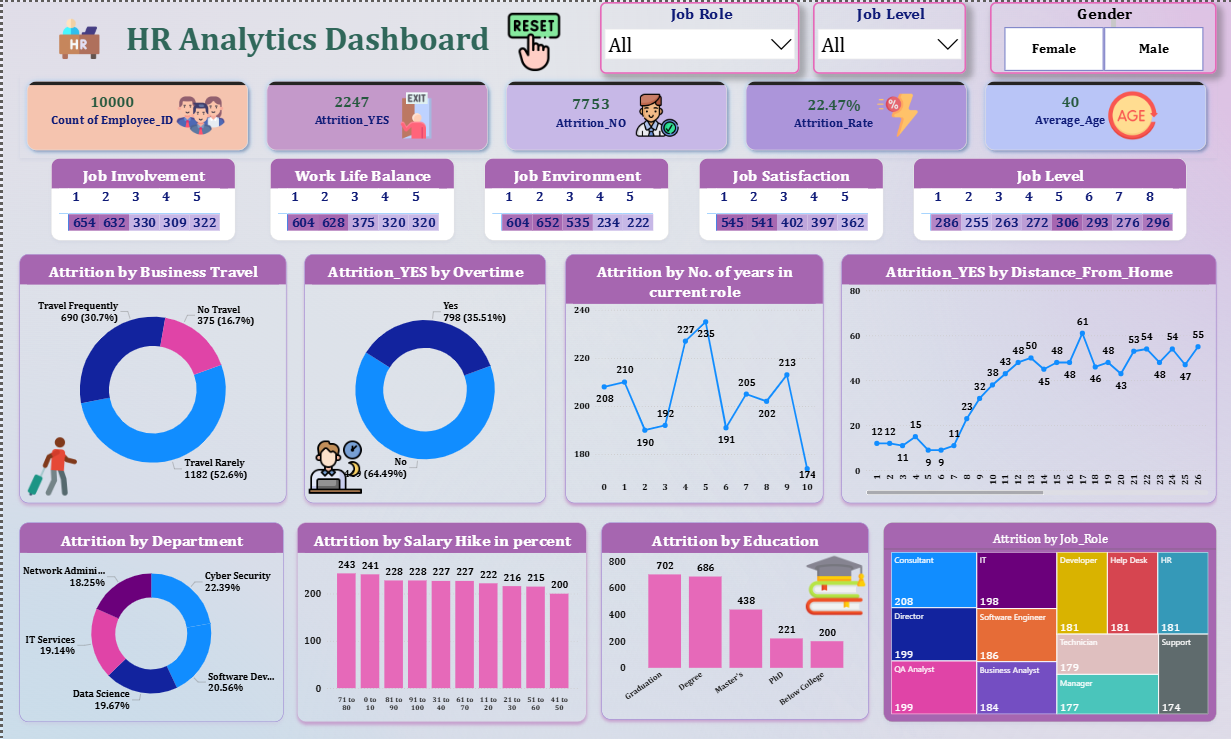

This screenshot's page, from the dashboard's own definition file:
{"tool":"powerbi","page":{"name":"Page 1","canvas":[2000,1200],"ordinal":0},"visuals":[{"type":"cardVisual","fields":{"Data":["CountNonNull(Employees.Employee_ID)","Employees.Attrition_YES","Employees.Attrition_NO","Employees.Attrition_Rate","Employees.Average_Age"]},"box":[26.8,116.9,1943.7,136.4],"z":0},{"type":"donutChart","title":"Attrition by Department","fields":{"Category":["Employees.Department"],"Y":["Employees.Attrition_YES"]},"box":[26.8,845.2,428.7,324],"z":1000},{"type":"treemap","title":"Attrition by Job_Role","fields":{"Values":["Employees.Attrition_YES"],"Group":["Employees.Job_Role"]},"box":[1429.8,845.2,540.7,324],"z":2000},{"type":"lineChart","fields":{"Category":["Employees.Distance_From_Home"],"Y":["Employees.Attrition_YES"]},"box":[1361.6,409.2,608.9,404.3],"z":3000},{"type":"donutChart","fields":{"Category":["Employees.Overtime"],"Y":["Employees.Attrition_YES"]},"box":[489.6,409.2,392.2,404.3],"z":4000},{"type":"pivotTable","title":"Job Satisfaction","fields":{"Columns":["Employees.Job_Satisfaction"],"Values":["Employees.Attrition_YES"]},"box":[1130.2,253.3,299.6,134],"z":5000},{"type":"pivotTable","title":"Job Environment","fields":{"Values":["Employees.Attrition_YES"],"Columns":["Employees.Environemnt_Satisfaction"]},"box":[781.9,253.3,299.6,134],"z":6000},{"type":"pivotTable","title":"Work Life Balance","fields":{"Values":["Employees.Attrition_YES"],"Columns":["Employees.Work_life_balance"]},"box":[433.6,253.3,299.6,134],"z":7000},{"type":"donutChart","title":"Attrition by Business Travel","fields":{"Category":["Employees.Business_Travel"],"Y":["Employees.Attrition_YES"]},"box":[26.8,409.2,433.6,404.3],"z":8000},{"type":"lineChart","title":"Attrition by No. of years in current role","fields":{"Y":["Employees.Attrition_YES"],"Category":["Employees.No_of_years_in_current_role"]},"box":[913.4,409.2,419,404.3],"z":9000},{"type":"columnChart","title":"Attrition by Salary Hike in percent ","fields":{"Y":["Employees.Attrition_YES"],"Category":["Employees.Salary_Hike_in_percent (groups) 2"]},"box":[478.2,845.2,470.1,324],"z":10000},{"type":"columnChart","title":"Attrition by Education","fields":{"Y":["Employees.Attrition_YES"],"Category":["Employees.Education"]},"box":[971.1,845.2,434,320],"z":11000},{"type":"pivotTable","title":"Job Involvement","fields":{"Values":["Employees.Attrition_YES"],"Columns":["Employees.Job_Involvement"]},"box":[77.9,253.3,299.6,134],"z":12000},{"type":"pivotTable","title":"Job Level","fields":{"Values":["Employees.Attrition_YES"],"Columns":["Employees.Job_Level"]},"box":[1478.5,253.3,443.3,134],"z":13000},{"type":"textbox","box":[182.7,21.9,1629.5,75.5],"z":14000},{"type":"image","box":[77.9,21.9,92.6,75.5],"z":15000},{"type":"image","box":[26.8,701.5,107.2,104.7],"z":16000},{"type":"image","box":[489.6,696.6,99.9,116.9],"z":17000},{"type":"image","box":[1298.3,867.1,107.2,160.8],"z":18000},{"type":"slicer","title":"Gender","fields":{"Values":["Employees.Gender"]},"box":[1602.7,0,367.8,116.9],"z":19000},{"type":"slicer","title":"Job Level ","fields":{"Values":["Employees.Job_Level"]},"box":[1315.3,0,248.4,116.9],"z":20000},{"type":"slicer","title":"Job Role","fields":{"Values":["Employees.Job_Role"]},"box":[969.4,0,324,116.9],"z":21000},{"type":"image","box":[791.6,12.2,141.3,104.7],"z":21001}]}

Visuals, with their boxes in screenshot pixels (x1, y1, x2, y2), scaled from the page's 2000x1200 canvas onto the 1231x739 screenshot:
cardVisual - CountNonNull(Employees.Employee_ID) x Employees.Attrition_YES: [x1=16, y1=72, x2=1213, y2=156]
"Attrition by Department" donutChart: [x1=16, y1=521, x2=280, y2=720]
"Attrition by Job_Role" treemap: [x1=880, y1=521, x2=1213, y2=720]
lineChart - Employees.Distance_From_Home x Employees.Attrition_YES: [x1=838, y1=252, x2=1213, y2=501]
donutChart - Employees.Overtime x Employees.Attrition_YES: [x1=301, y1=252, x2=543, y2=501]
"Job Satisfaction" pivotTable: [x1=696, y1=156, x2=880, y2=239]
"Job Environment" pivotTable: [x1=481, y1=156, x2=666, y2=239]
"Work Life Balance" pivotTable: [x1=267, y1=156, x2=451, y2=239]
"Attrition by Business Travel" donutChart: [x1=16, y1=252, x2=283, y2=501]
"Attrition by No. of years in current role" lineChart: [x1=562, y1=252, x2=820, y2=501]
"Attrition by Salary Hike in percent " columnChart: [x1=294, y1=521, x2=584, y2=720]
"Attrition by Education" columnChart: [x1=598, y1=521, x2=865, y2=718]
"Job Involvement" pivotTable: [x1=48, y1=156, x2=232, y2=239]
"Job Level" pivotTable: [x1=910, y1=156, x2=1183, y2=239]
textbox: [x1=112, y1=13, x2=1115, y2=60]
image: [x1=48, y1=13, x2=105, y2=60]
image: [x1=16, y1=432, x2=82, y2=496]
image: [x1=301, y1=429, x2=363, y2=501]
image: [x1=799, y1=534, x2=865, y2=633]
"Gender" slicer: [x1=986, y1=0, x2=1213, y2=72]
"Job Level " slicer: [x1=810, y1=0, x2=962, y2=72]
"Job Role" slicer: [x1=597, y1=0, x2=796, y2=72]
image: [x1=487, y1=8, x2=574, y2=72]
